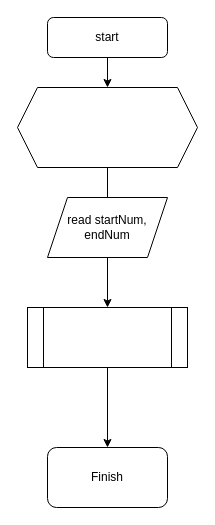
The diagram is 215 pixels wide and 525 high, and some of its shapes have lost their labels. Each missing label, with the centre of its shape:
int startNum,endNum int i,j int* check = malloc() int cnt void find(): pixel 107 127
void find(int startNum, int endNum): pixel 107 337
